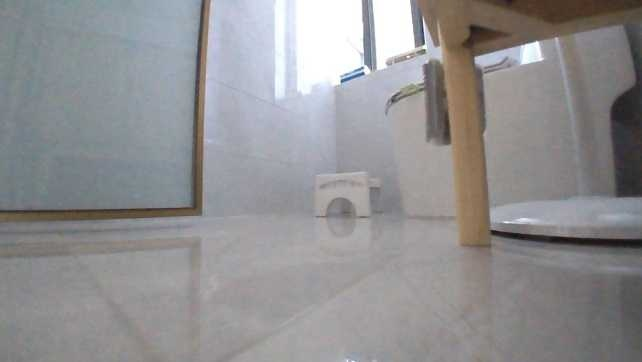chair_base: (489, 133, 641, 241)
plastic_stool: (312, 168, 385, 218)
toilet: (386, 30, 632, 219)
